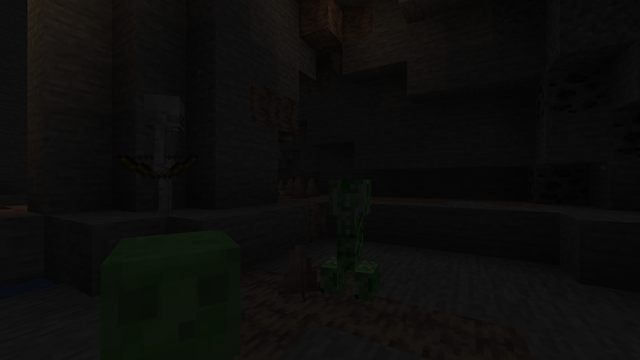creepers: (322, 173, 375, 302)
slimes: (88, 225, 253, 358)
squelettes: (137, 92, 192, 219)
